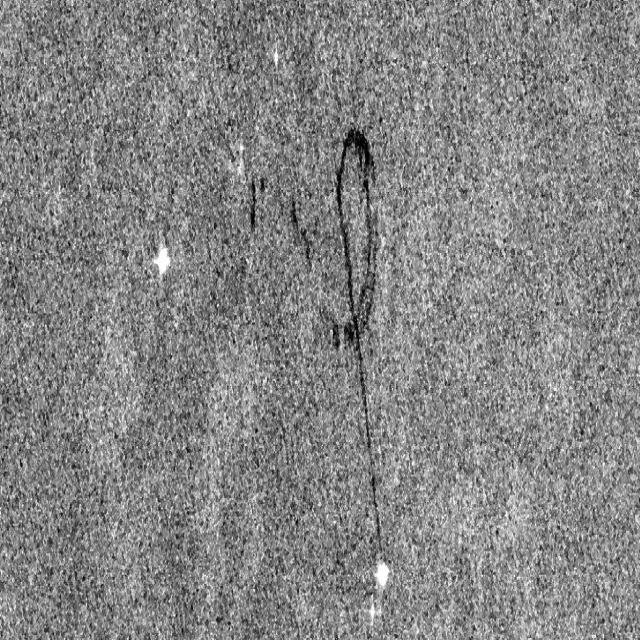oil-spill: (318, 128, 396, 550), (286, 193, 314, 272), (242, 173, 266, 232), (257, 169, 267, 197)
ship: (144, 235, 177, 281), (367, 553, 398, 599), (365, 605, 385, 637)
